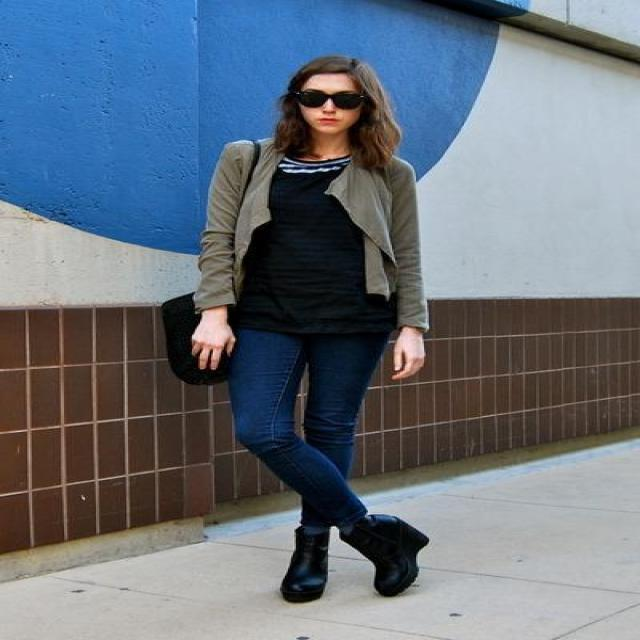bag: (160, 294, 237, 388)
jacket: (187, 137, 432, 334)
pants: (230, 330, 390, 533)
shirt: (224, 157, 402, 344)
shoe: (280, 516, 427, 603)
